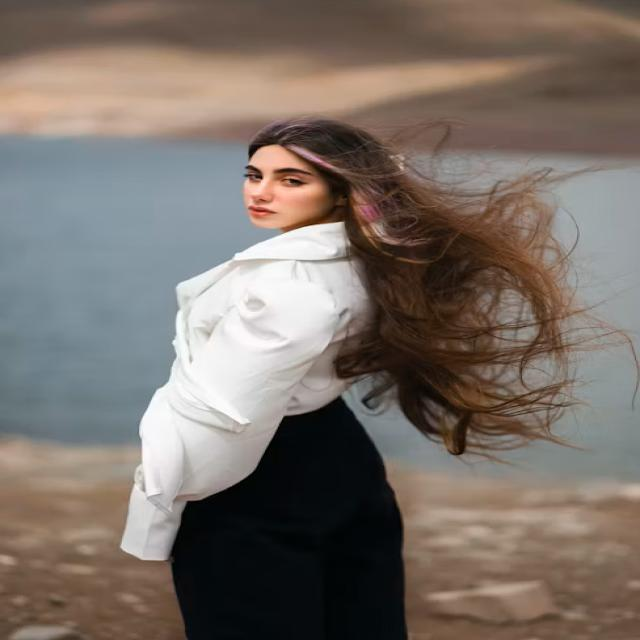Edited images: (113, 113, 557, 640)
